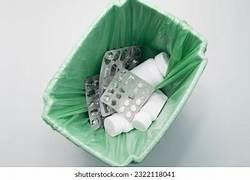pill_Strip: (100, 69, 153, 120), (99, 46, 141, 94), (85, 75, 102, 129)
